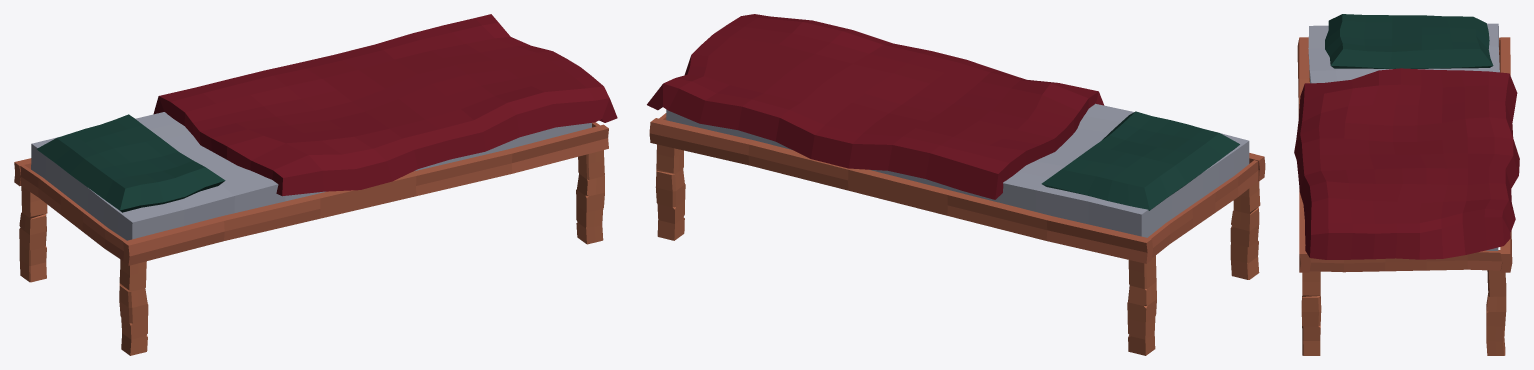
The model's file is bed1.fbx.
The picture shows the model from 3 angles, left to right: view 1: azimuth 30°, elevation 25°; view 2: azimuth 150°, elevation 25°; view 3: azimuth 270°, elevation 25°; orthographic projection. The views are drawn at different scales.
Visible parts, largest first — view 1: bed 1; view 2: bed 1; view 3: bed 1.
Boxes of the visible parts, <box> form: bed 1: <box>14,14,617,355</box>; bed 1: <box>647,14,1265,355</box>; bed 1: <box>1294,14,1519,355</box>.
Size of the model in its own units: 208 by 59.27 by 88.13.
